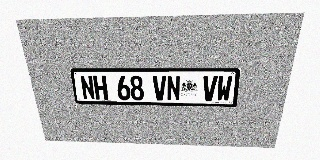6: (116, 76, 131, 100)
8: (130, 76, 144, 100)
H: (93, 76, 108, 100)
N: (80, 76, 95, 100), (167, 76, 180, 101)
V: (202, 76, 218, 101), (153, 76, 166, 101)
W: (216, 76, 233, 101)
